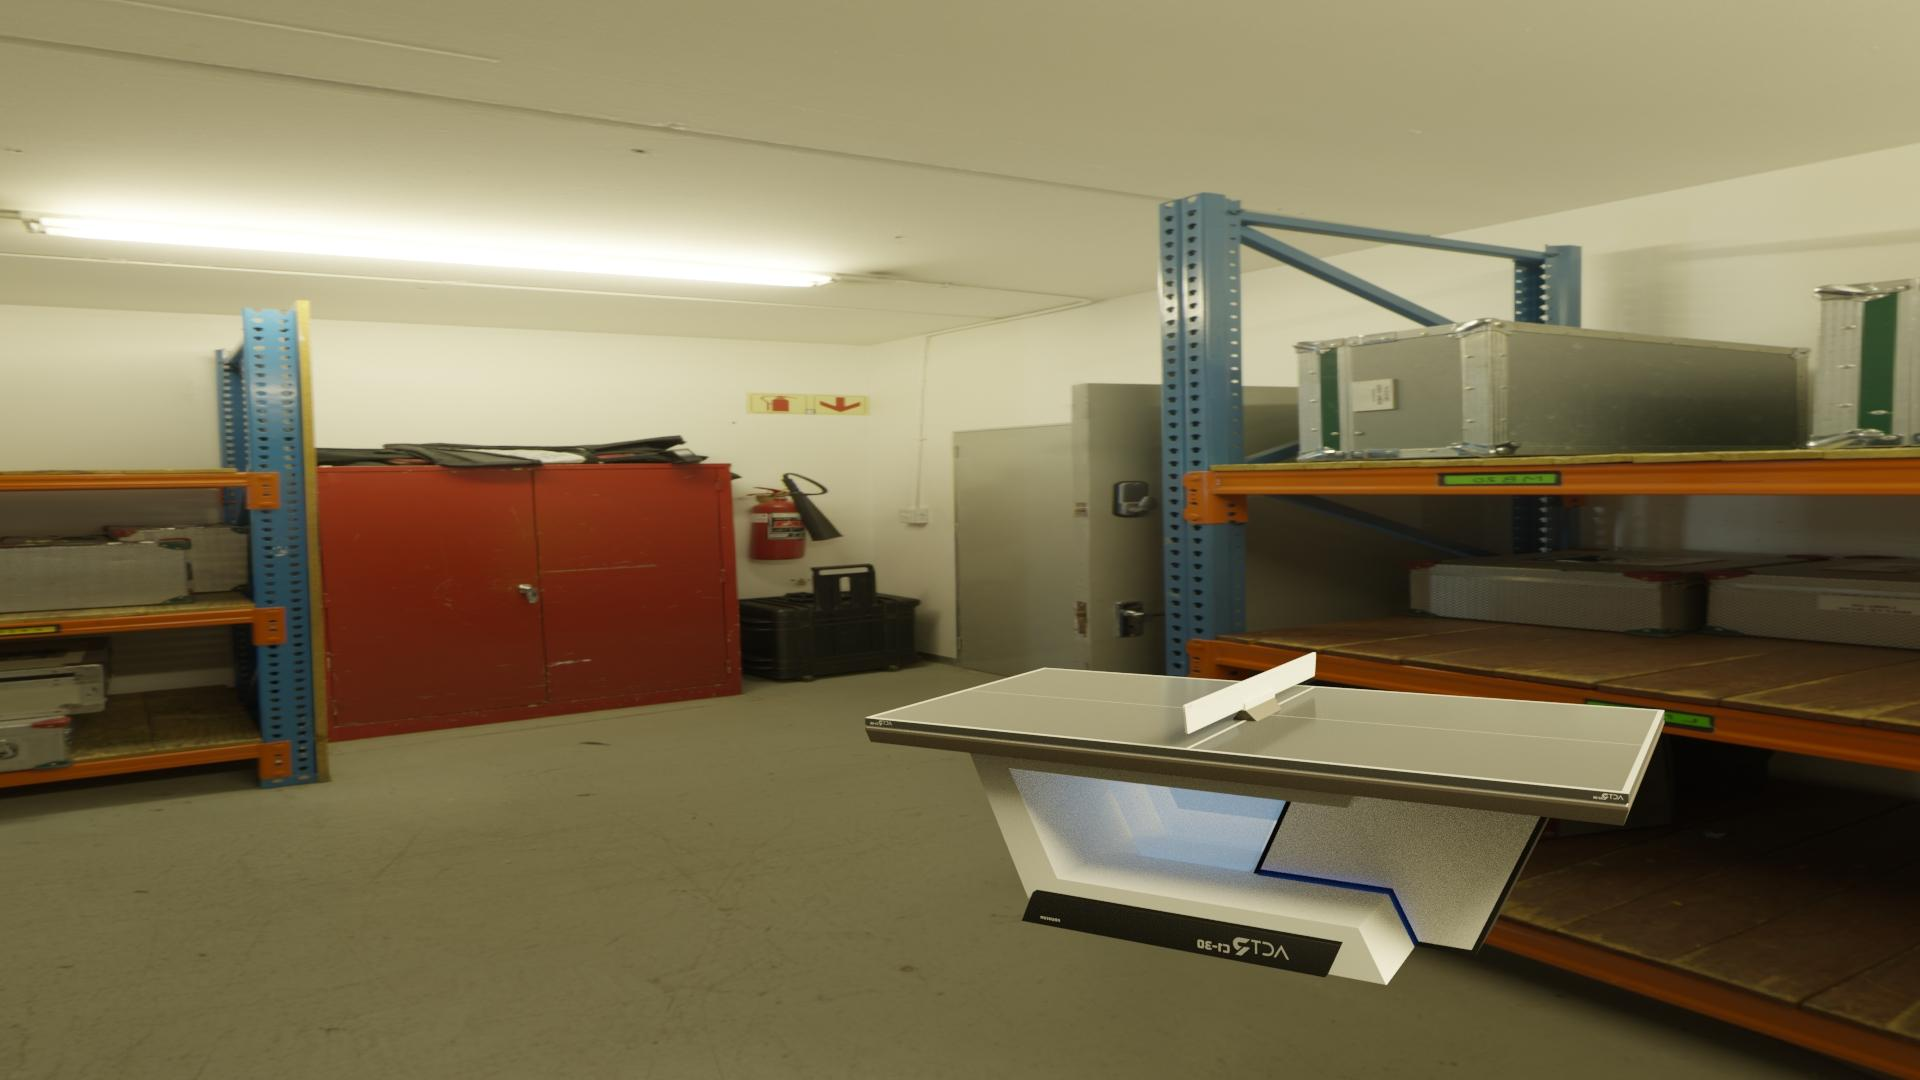table: (872, 669, 1658, 791)
